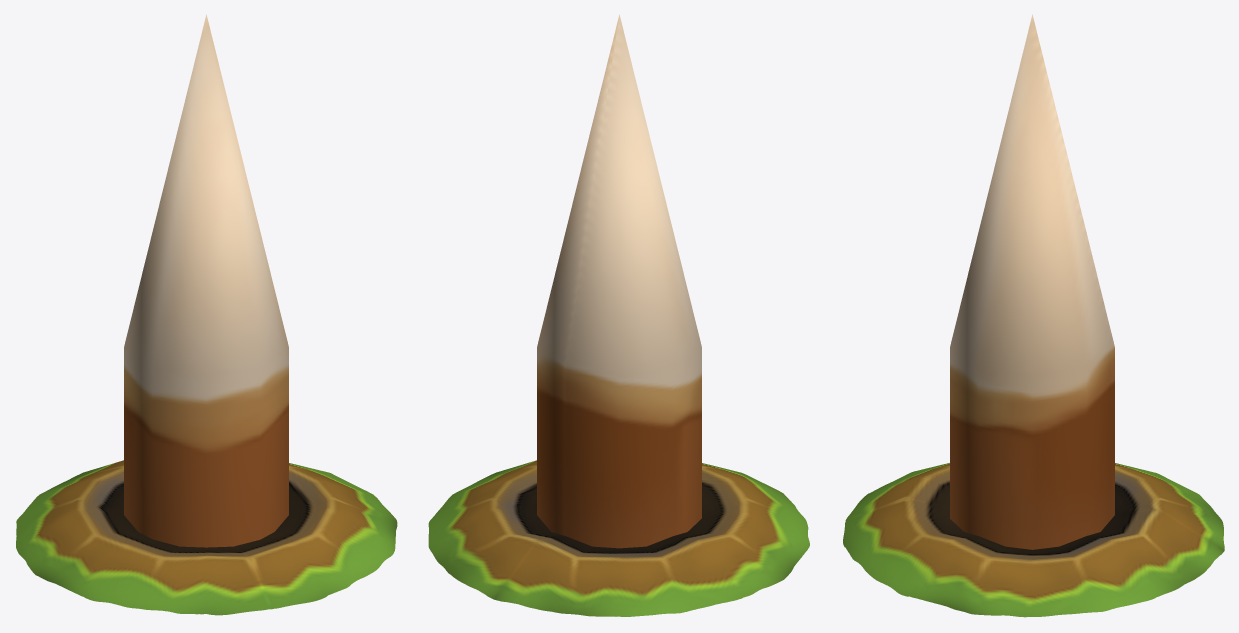
File: thorn.FBX
3 renders of one model, left to right at view 1: azimuth 30°, elevation 25°; view 2: azimuth 150°, elevation 25°; view 3: azimuth 270°, elevation 25°, orthographic.
Parts seen in each view (by area): view 1: thorn01, thorn; view 2: thorn01, thorn; view 3: thorn01, thorn.
Boxes of the visible parts, bbox=[...] form: thorn01: bbox=[124, 14, 288, 547]; thorn: bbox=[16, 460, 397, 615]; thorn01: bbox=[537, 14, 701, 548]; thorn: bbox=[428, 460, 809, 616]; thorn01: bbox=[950, 14, 1114, 549]; thorn: bbox=[843, 463, 1224, 617].
Size of the model in its own units: 0.1557 by 0.2299 by 0.1534.
